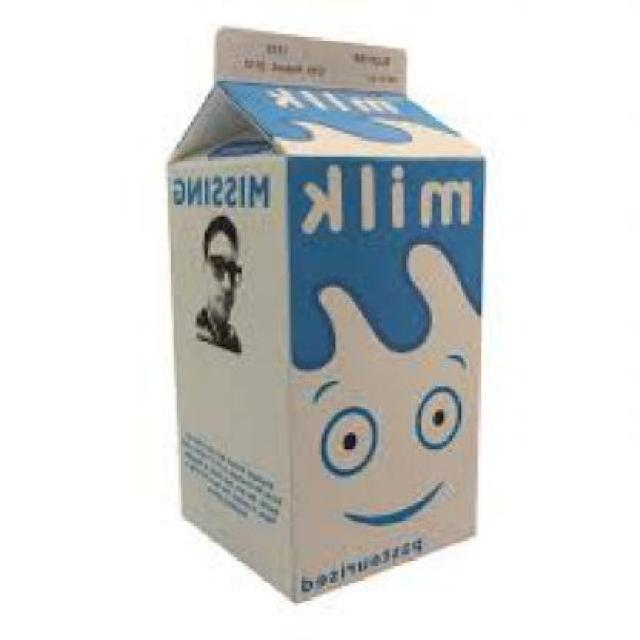CARDBOARD: (171, 20, 486, 603)
